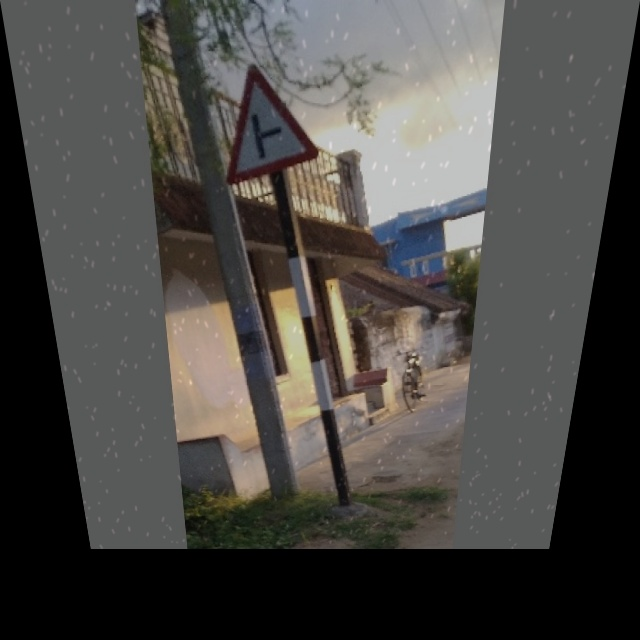Side_Road_Right: (218, 54, 321, 183)
